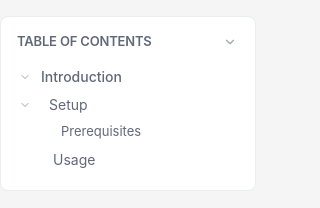
Test: TableOfContents › panel fold toggle hides nav content when clicked
Check: the navigation bar with test id "toc-nav-content" is shown, box [17,63,239,174]
Note: Click to collapse
Click the button with test id "toc-panel-toggle": (230, 42) [221,33,239,51]
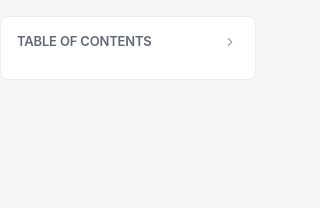
Check: the navigation bar with test id "toc-nav-content" is gone
